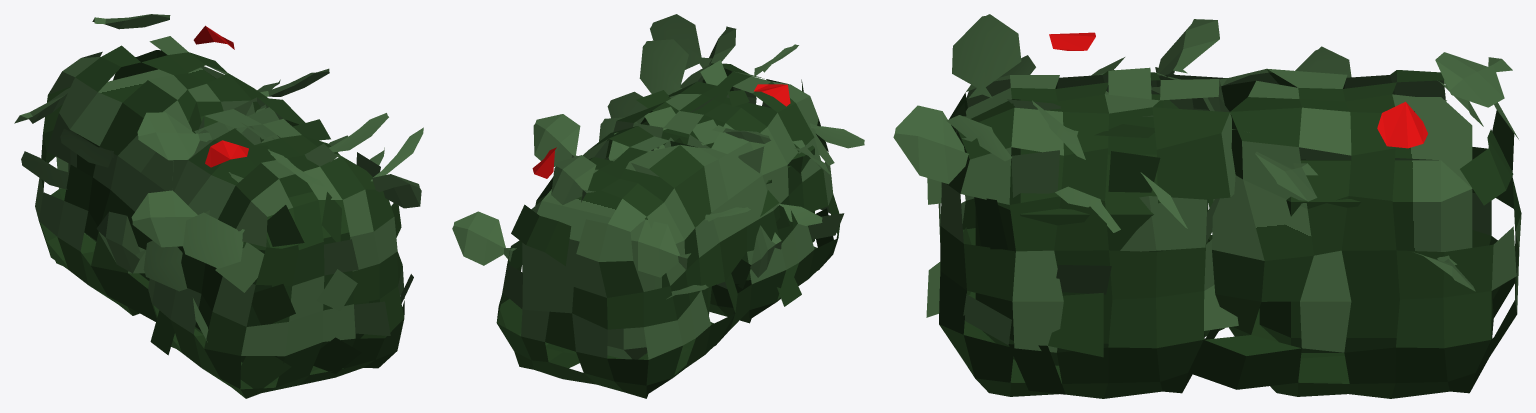
File: Hedge.glb
The picture shows the model from 3 angles, left to right: view 1: azimuth 30°, elevation 25°; view 2: azimuth 150°, elevation 25°; view 3: azimuth 270°, elevation 25°; orthographic projection. The views are drawn at different scales.
Visible parts, largest first — view 1: HedgeLong; view 2: HedgeLong; view 3: HedgeLong.
Part boxes in pixels (x1,y1,x2,y2): HedgeLong: (14, 14, 423, 398); HedgeLong: (452, 14, 864, 398); HedgeLong: (893, 14, 1521, 398).
Size of the model in its own units: 2.87 by 2.44 by 4.37.
1 material, 1 textured.
